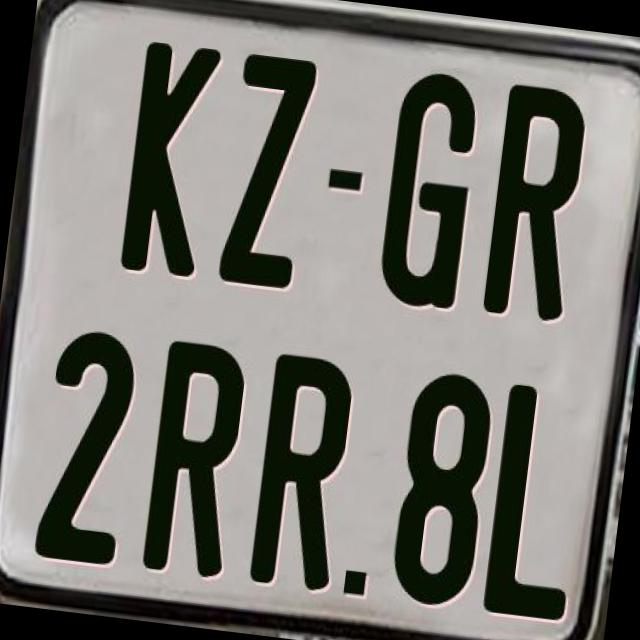2: (32, 327, 146, 576)
8: (383, 364, 498, 614)
G: (371, 66, 478, 316)
K: (120, 39, 224, 280)
L: (480, 383, 596, 630)
R: (244, 350, 357, 598), (140, 338, 254, 582), (481, 82, 588, 322)
Z: (214, 51, 318, 288)
